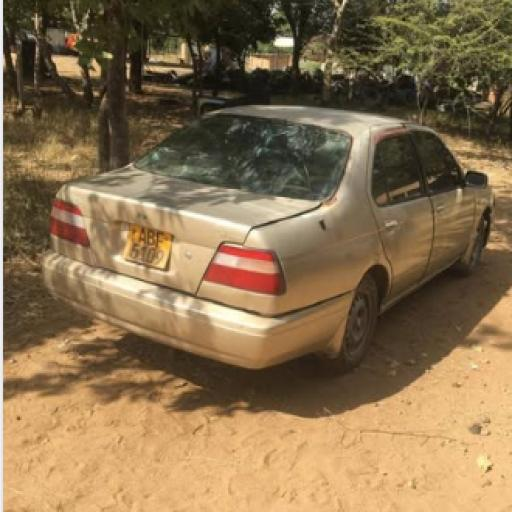number-plates: (124, 215, 167, 269)
